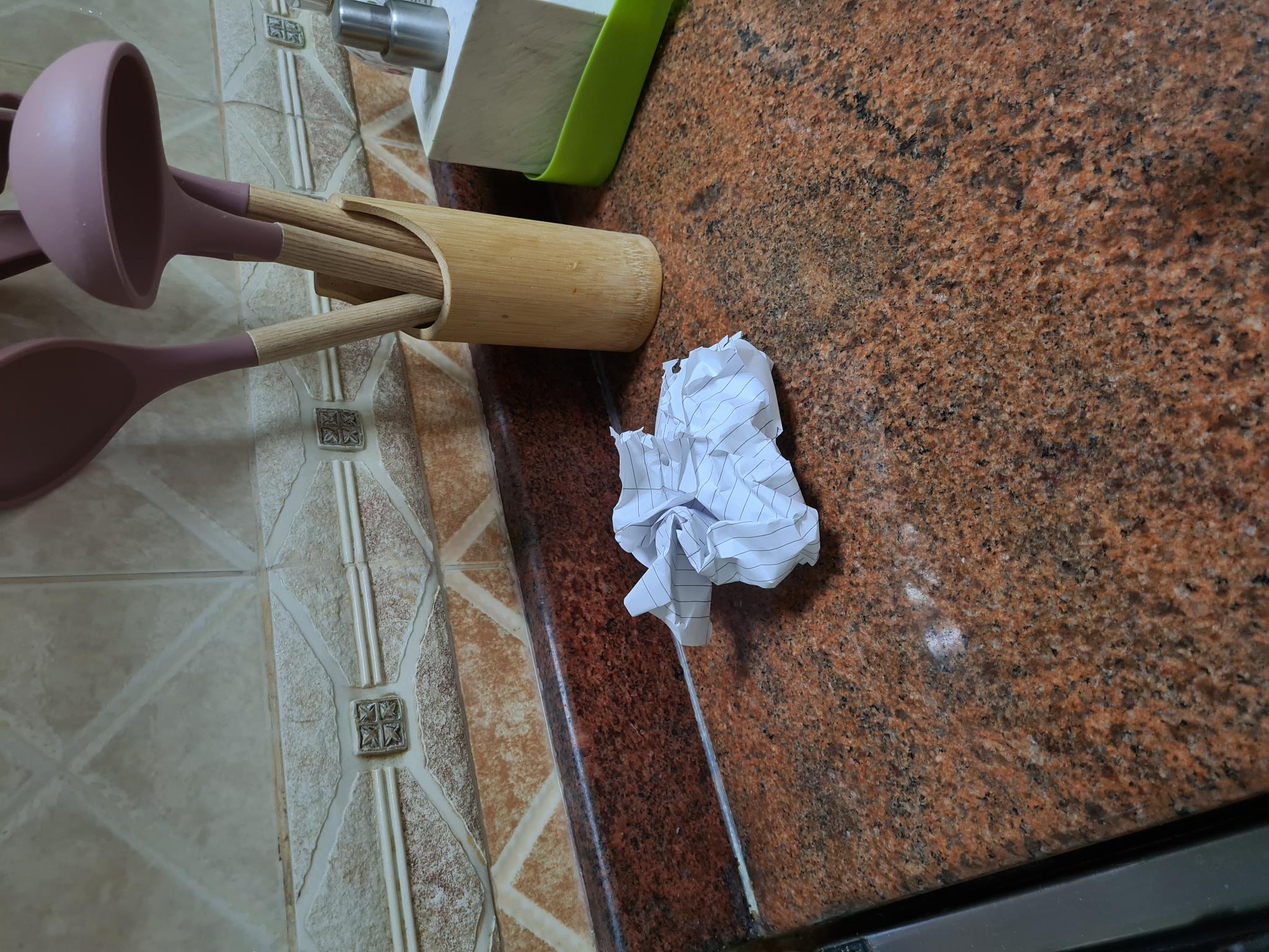Kertas: (286, 588, 624, 835)
